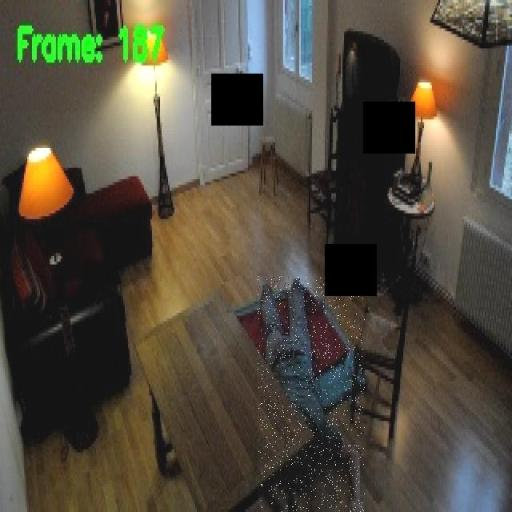Fall: (258, 276, 365, 512)
